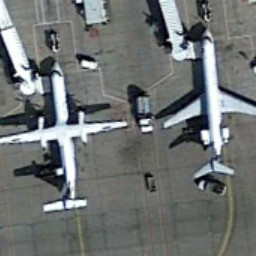Airplane: (1, 53, 133, 217), (158, 20, 256, 189)
